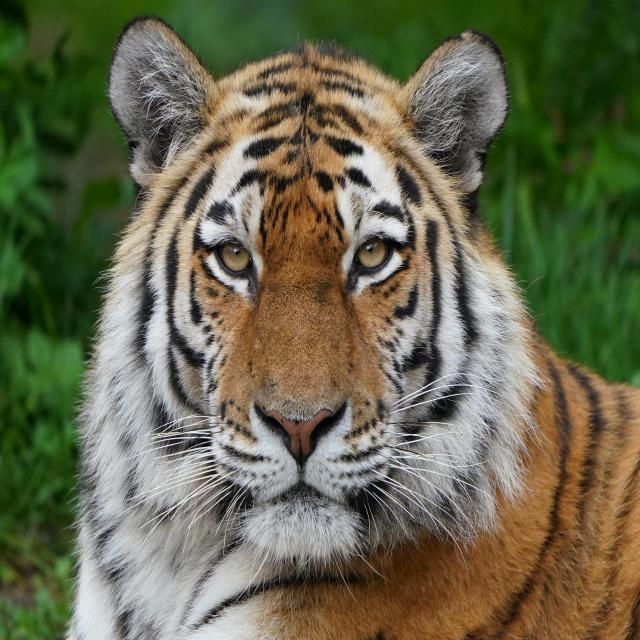tiger: (71, 17, 640, 640)
